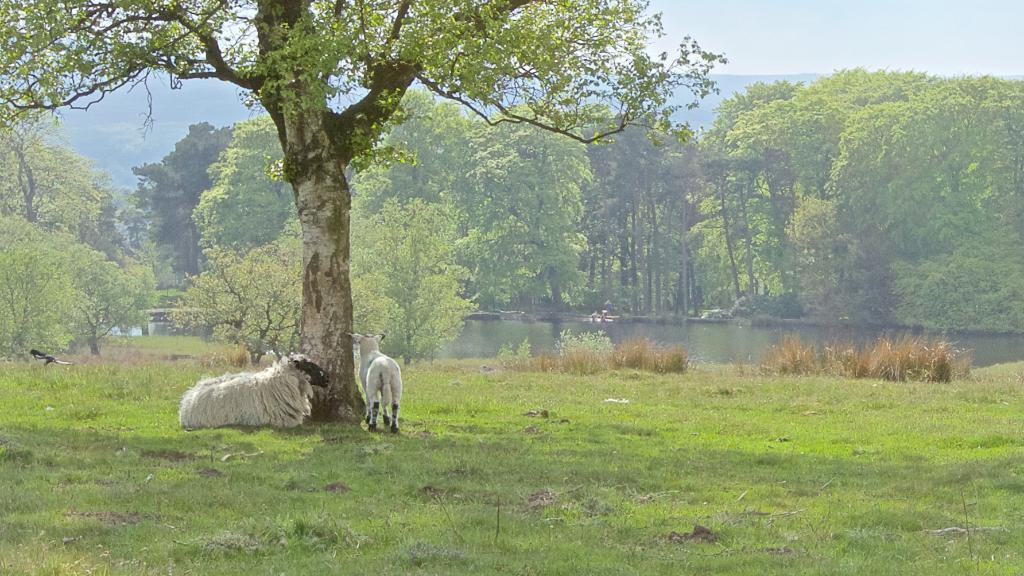sheep: (184, 342, 324, 435), (346, 328, 401, 436)
